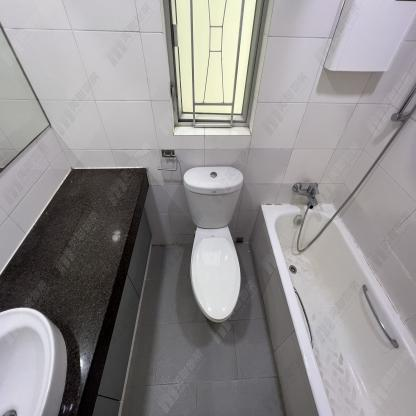Bathtub: (249, 202, 416, 416)
Toilet: (184, 166, 246, 324)
Toilet Sink: (0, 307, 70, 416)
Water Heater: (322, 18, 416, 74)
